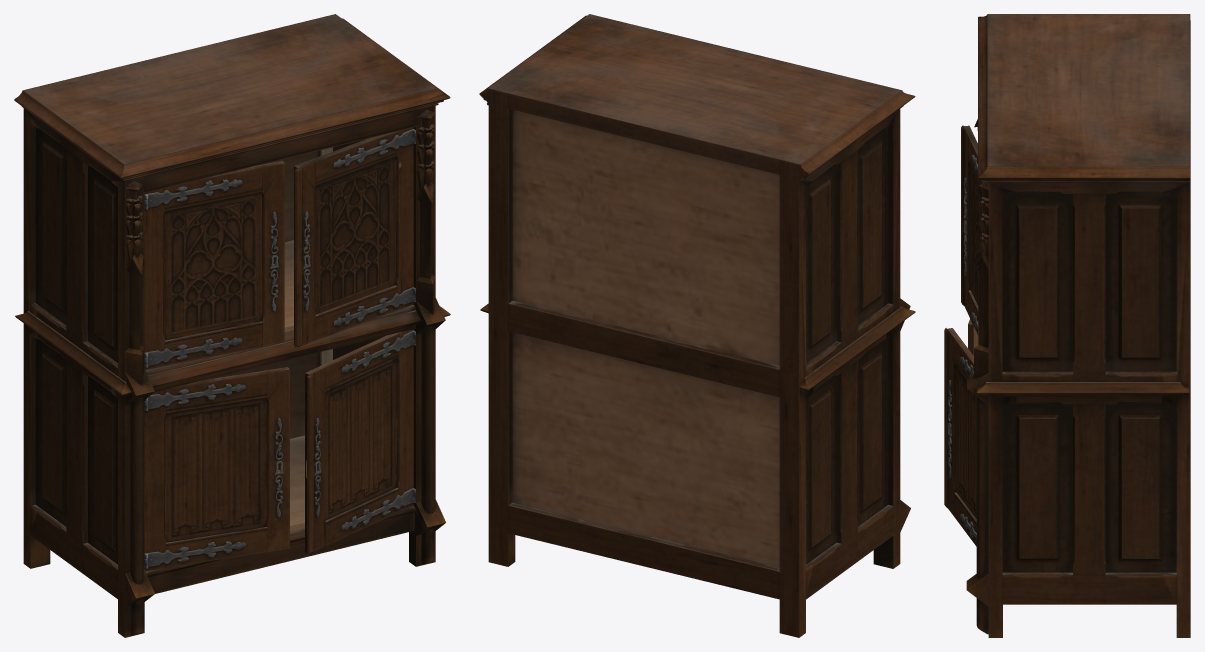
The model's file is GothicCabinet_01.glb.
The picture shows the model from 3 angles, left to right: view 1: azimuth 30°, elevation 25°; view 2: azimuth 150°, elevation 25°; view 3: azimuth 270°, elevation 25°; orthographic projection.
Parts seen in each view (by area): view 1: GothicCabinet_01_cabinet, GothicCabinet_01_door3, GothicCabinet_01_door1, GothicCabinet_01_door2, GothicCabinet_01_door4; view 2: GothicCabinet_01_cabinet; view 3: GothicCabinet_01_cabinet, GothicCabinet_01_door4, GothicCabinet_01_door2.
Boxes of the visible parts, x1,y1,x2,y2 form: GothicCabinet_01_cabinet: [14, 14, 450, 637]; GothicCabinet_01_door3: [144, 367, 289, 571]; GothicCabinet_01_door1: [144, 160, 284, 369]; GothicCabinet_01_door2: [294, 127, 415, 347]; GothicCabinet_01_door4: [305, 329, 415, 554]; GothicCabinet_01_cabinet: [479, 14, 915, 637]; GothicCabinet_01_cabinet: [966, 14, 1190, 637]; GothicCabinet_01_door4: [944, 328, 976, 546]; GothicCabinet_01_door2: [961, 125, 986, 335].
Bounding box in the file's own units: 1.72 × 2.36 × 1.12.
Materials: 1 (1 with a texture image).
